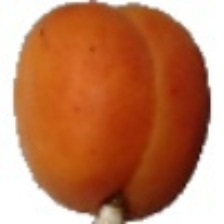apricot: (14, 22, 194, 210)
